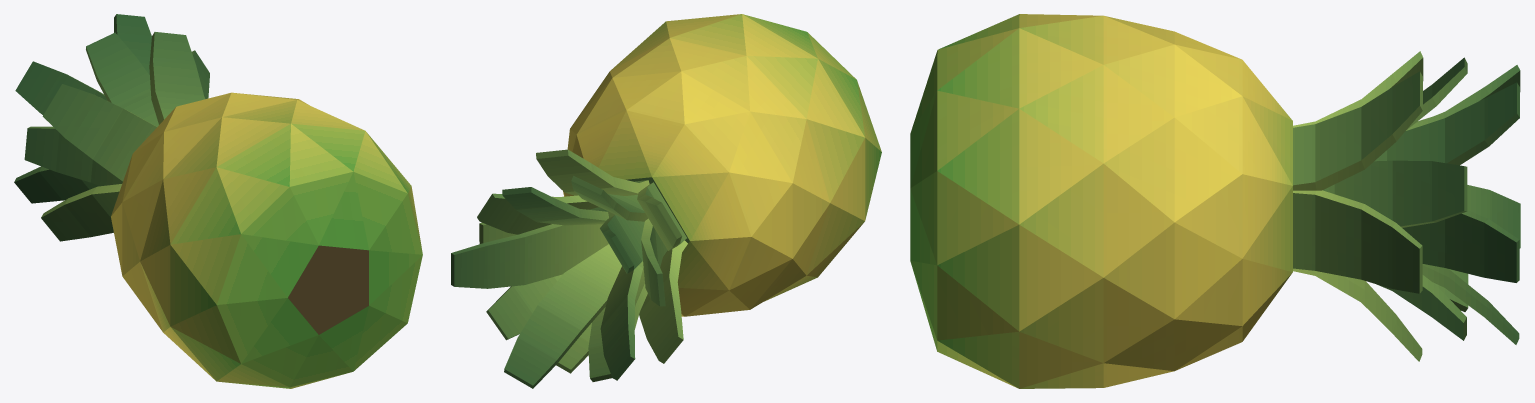
Rendered from pineapple.fbx.
3 renders of one model, left to right at view 1: azimuth 30°, elevation 25°; view 2: azimuth 150°, elevation 25°; view 3: azimuth 270°, elevation 25°, orthographic. The views are drawn at different scales.
Visible parts, largest first — view 1: fruit, leaf; view 2: fruit, leaf; view 3: fruit, leaf.
Part boxes in pixels (x1=…): fruit: x1=111, y1=92, x2=422, y2=388; leaf: x1=14, y1=14, x2=209, y2=241; fruit: x1=563, y1=14, x2=881, y2=316; leaf: x1=451, y1=149, x2=687, y2=388; fruit: x1=910, y1=14, x2=1292, y2=388; leaf: x1=1293, y1=51, x2=1520, y2=361.
Size of what is drawn, in the model's own units: 8.64 by 9.09 by 14.51.
